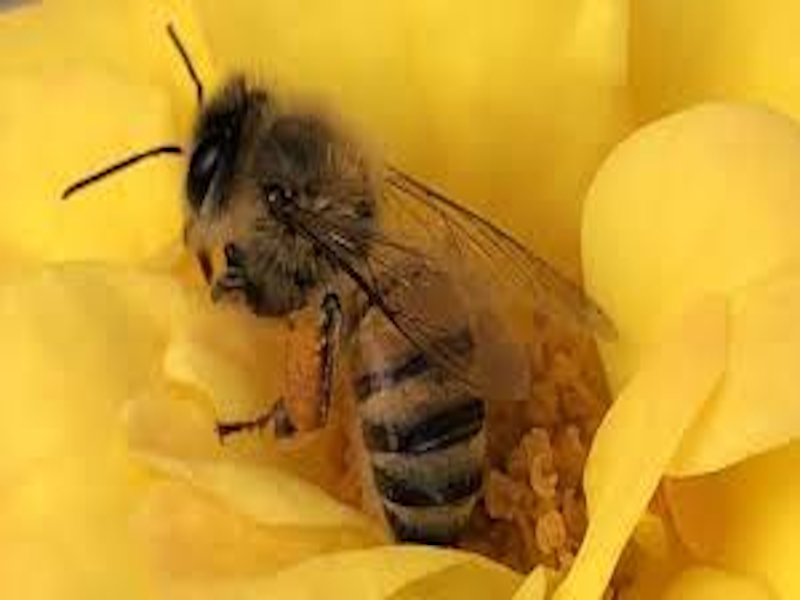abeja: (55, 7, 623, 592)
